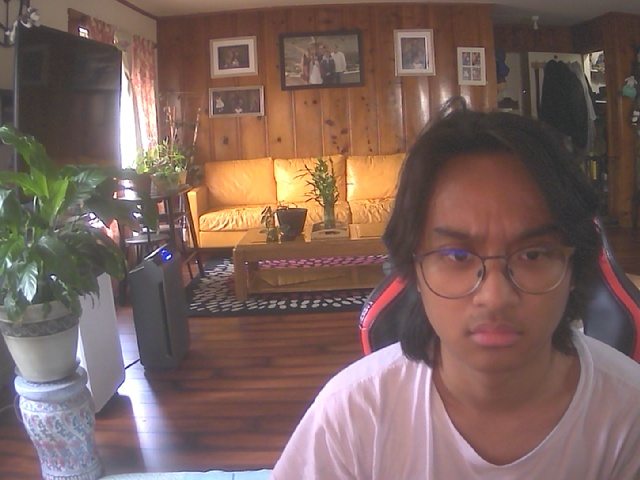anger: (409, 125, 591, 377)
